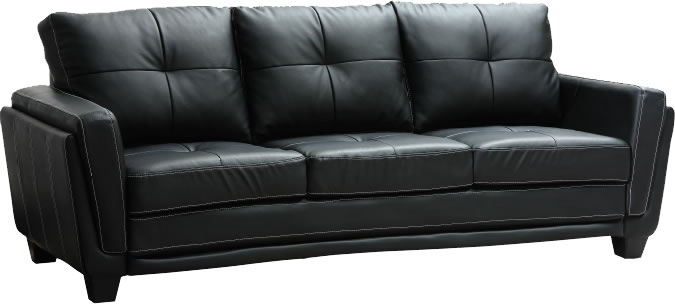chairs: (2, 1, 675, 304)
